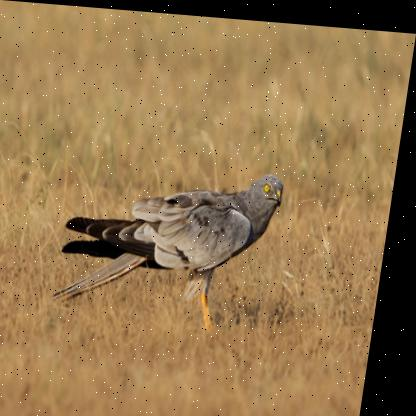Burung: (55, 157, 295, 334)
